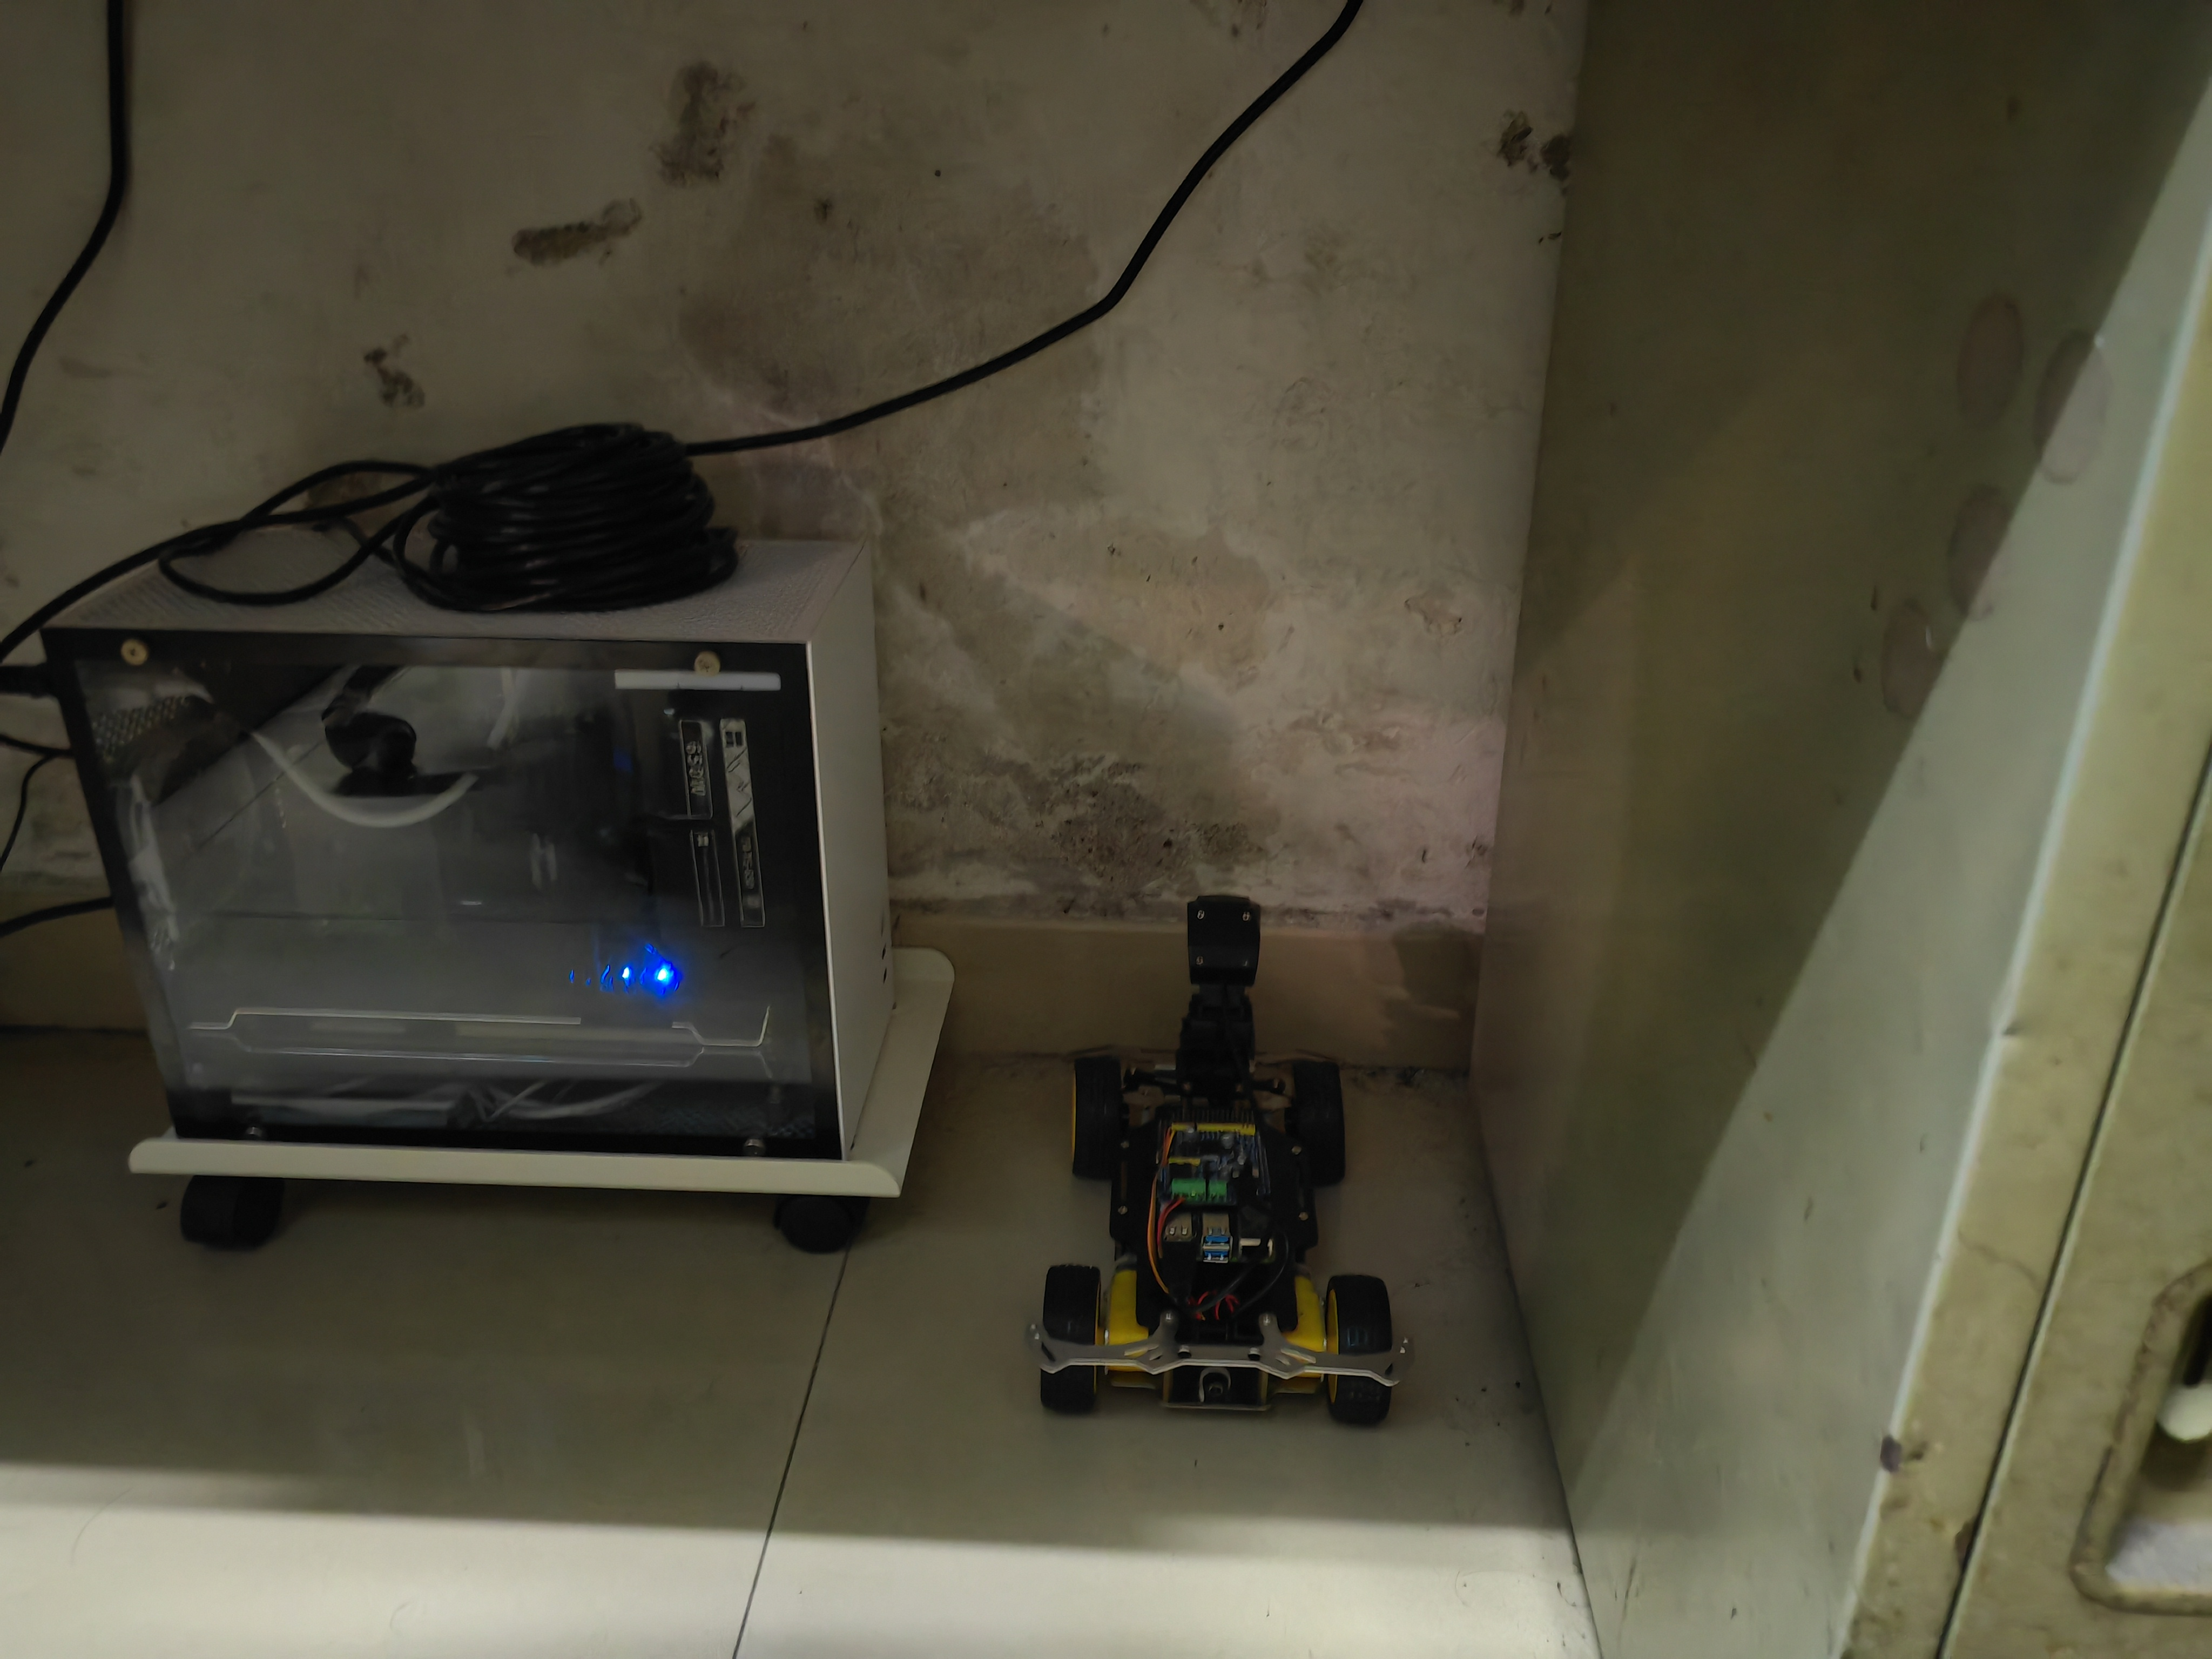car: (1014, 889, 1428, 1455)
